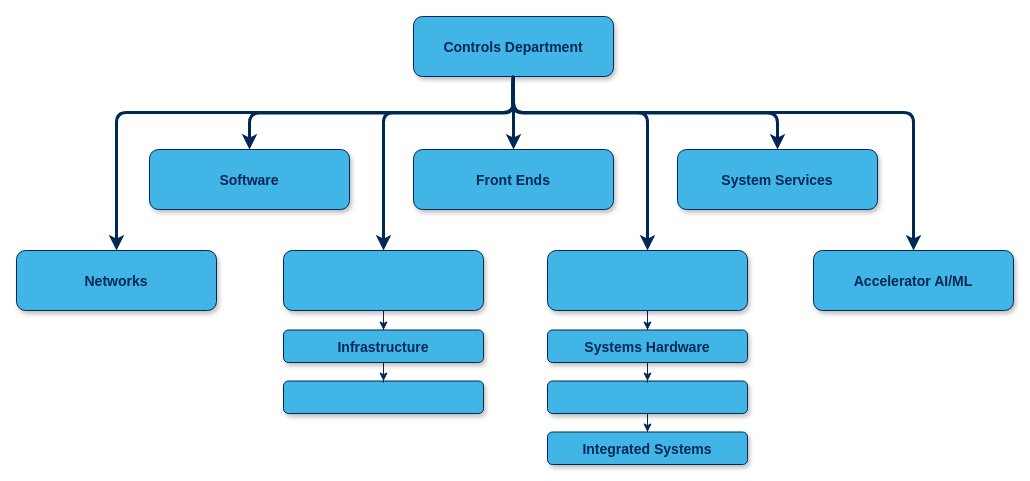
This 1030x481 diagram has some shape labels left out. The shapes that lost their labels are listed below. From the top down, each one's centre as x and y in pixels, then its label:
At pixel 384 282: "ACORN Project".
At pixel 648 282: "Controls Hardware".
At pixel 384 398: "Integration".
At pixel 648 398: "Clocks and Links".
